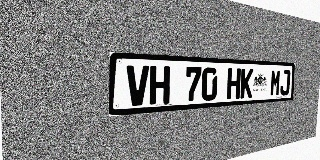0: (201, 67, 218, 101)
7: (184, 67, 202, 102)
H: (149, 66, 170, 105), (226, 68, 241, 99)
J: (280, 70, 290, 96)
K: (240, 68, 253, 98)
M: (270, 69, 281, 96)
V: (126, 65, 149, 106)
